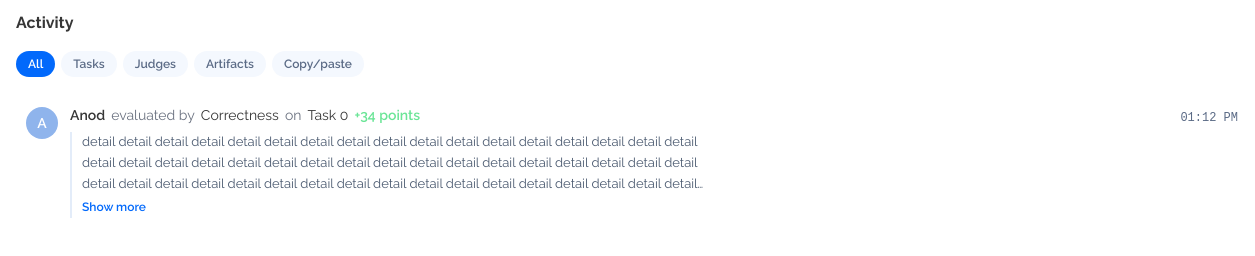
ActivityLog judge comments › clamps a comment the column cannot hold and toggles it open
This screenshot has width=1255, height=256.
Click the button "Show more". click: (114, 207)
box: [82,198,146,216]
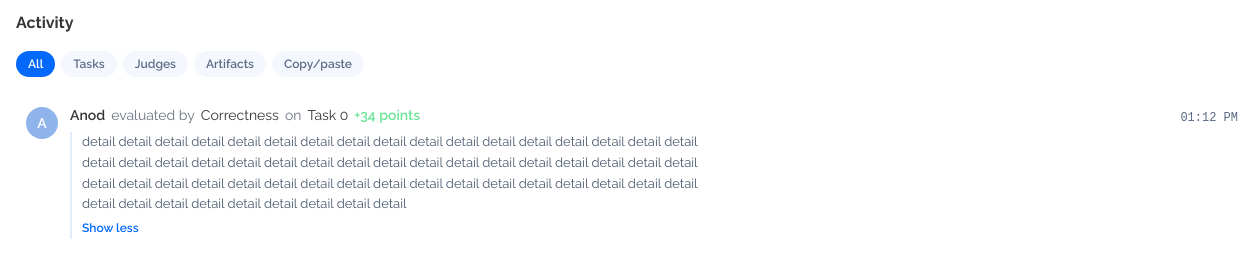
Result: the button "Show less" is shown at [82,219,139,237]
